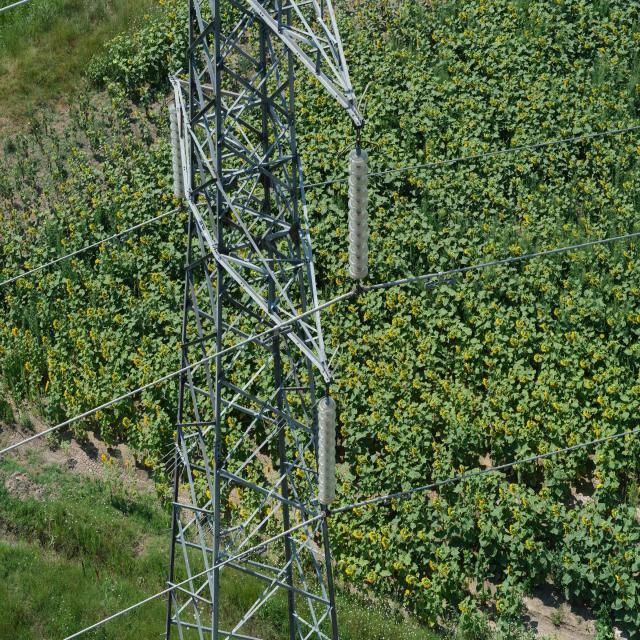direk: (165, 9, 341, 640)
